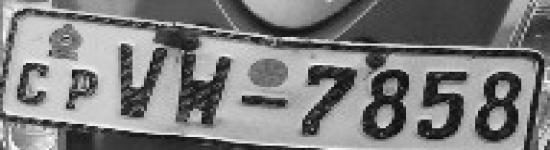-: (237, 92, 293, 113)
5: (410, 67, 470, 148)
7: (294, 58, 359, 141)
8: (472, 65, 529, 147), (357, 64, 413, 143)
C: (11, 59, 54, 111)
P: (61, 65, 103, 111)
V: (112, 39, 169, 123)
W: (175, 49, 233, 130)
